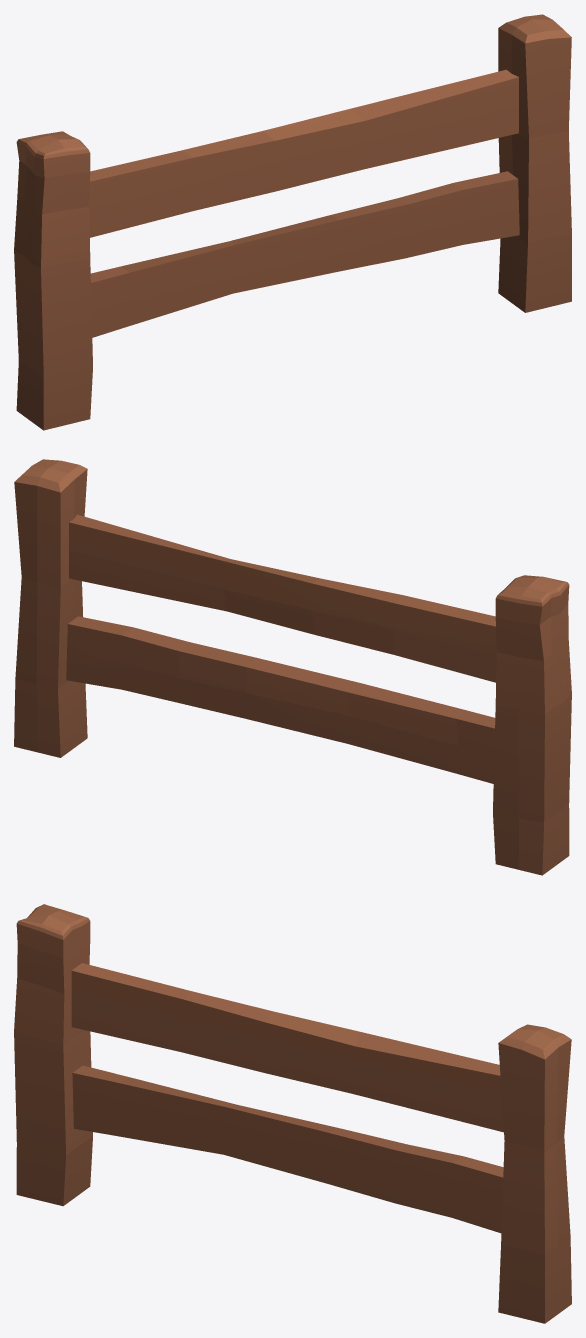
File: untreated-fence.glb
3 views of the same model, one above another, from view 1: azimuth 30°, elevation 25°; view 2: azimuth 150°, elevation 25°; view 3: azimuth 330°, elevation 25° (orthographic).
Visible parts, largest first — view 1: untreated fence; view 2: untreated fence; view 3: untreated fence.
Part boxes in pixels (bbox=[...]): untreated fence: bbox=[14, 14, 571, 430]; untreated fence: bbox=[14, 459, 571, 875]; untreated fence: bbox=[14, 904, 571, 1323].
Size of the model in its own units: 3.66 by 1.83 by 0.3294.
Materials: 1 (1 with a texture image).
